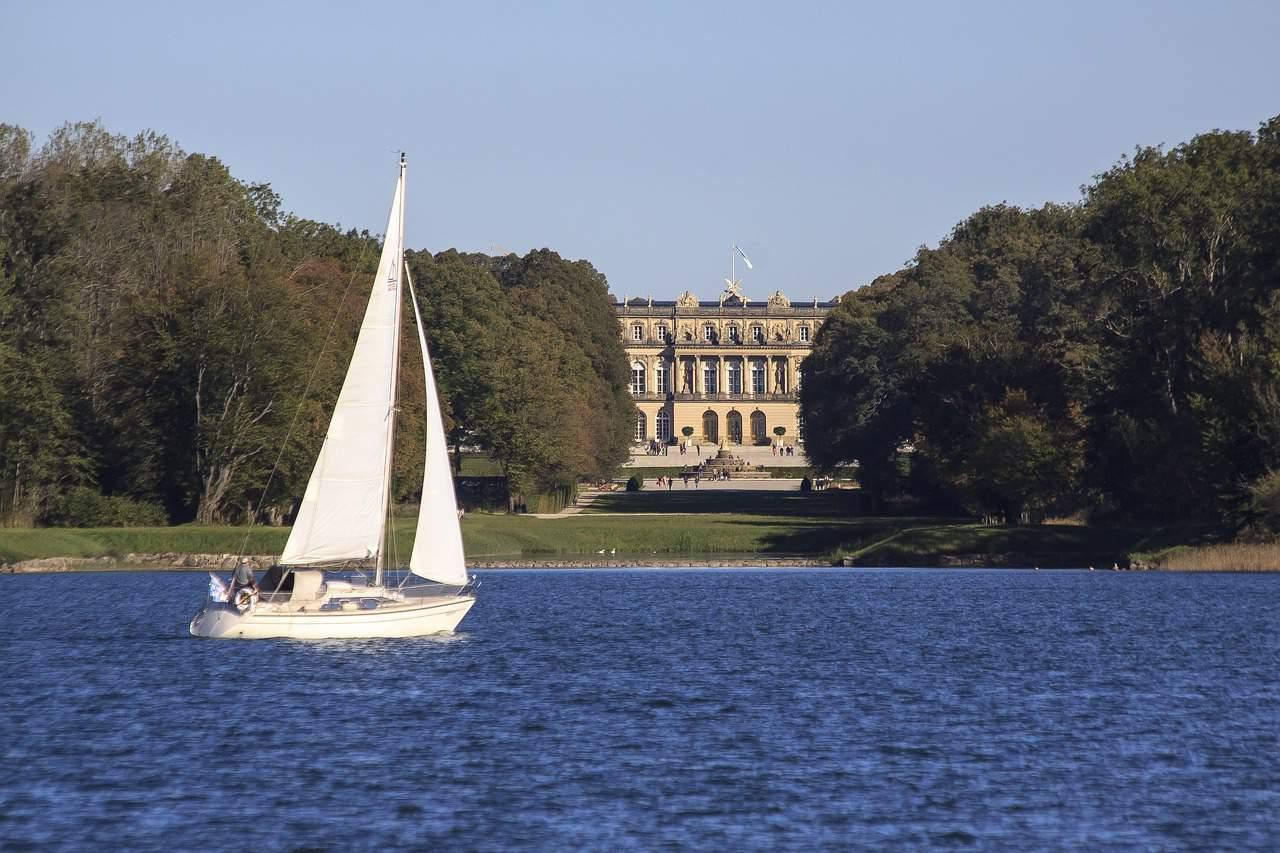Ship: (187, 149, 477, 645)
